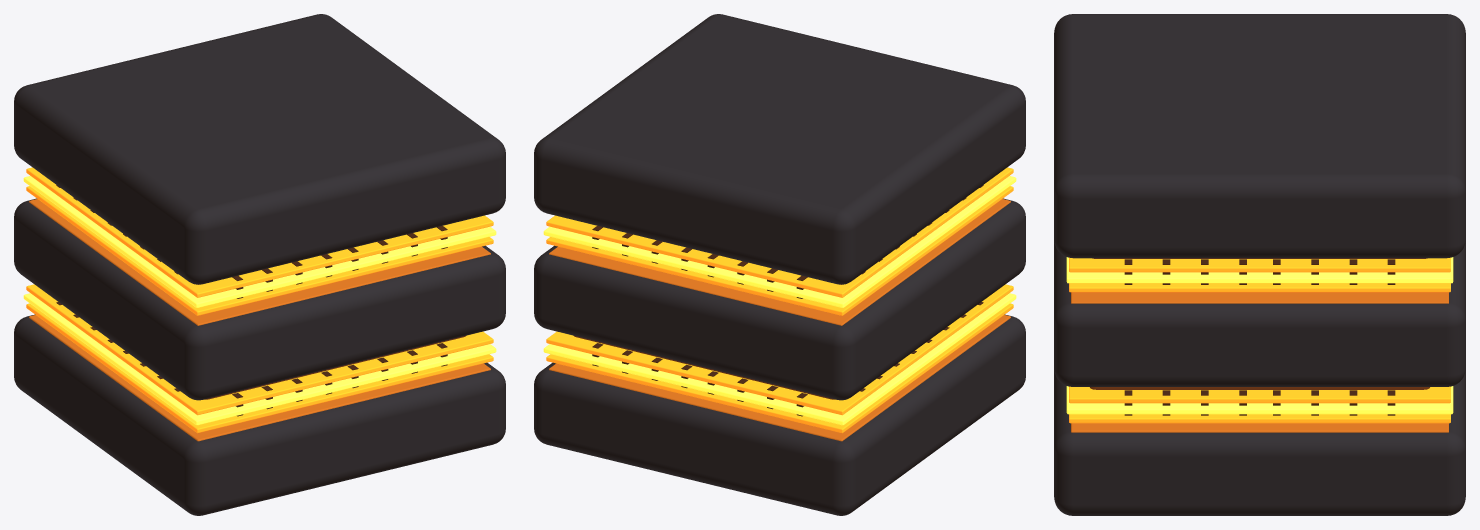
Rendered from inventory.glb.
The picture shows the model from 3 angles, left to right: view 1: azimuth 30°, elevation 25°; view 2: azimuth 150°, elevation 25°; view 3: azimuth 270°, elevation 25°; orthographic projection. The views are drawn at different scales.
Visible parts, largest first — view 1: stratum_top, stratum_middle, stratum_bottom, seam_lower, seam_upper; view 2: stratum_top, stratum_middle, stratum_bottom, seam_lower, seam_upper; view 3: stratum_top, stratum_middle, stratum_bottom, seam_lower, seam_upper.
Part boxes in pixels (x1=…): stratum_top: x1=14, y1=14, x2=505, y2=284; stratum_middle: x1=14, y1=198, x2=505, y2=400; stratum_bottom: x1=14, y1=314, x2=505, y2=515; seam_lower: x1=23, y1=284, x2=496, y2=433; seam_upper: x1=23, y1=167, x2=496, y2=315; stratum_top: x1=534, y1=14, x2=1025, y2=284; stratum_middle: x1=534, y1=198, x2=1025, y2=400; stratum_bottom: x1=534, y1=314, x2=1025, y2=515; seam_lower: x1=543, y1=284, x2=1016, y2=433; seam_upper: x1=543, y1=167, x2=1016, y2=315; stratum_top: x1=1054, y1=14, x2=1465, y2=258; stratum_middle: x1=1054, y1=240, x2=1465, y2=386; stratum_bottom: x1=1054, y1=369, x2=1465, y2=515; seam_lower: x1=1066, y1=386, x2=1453, y2=423; seam_upper: x1=1066, y1=257, x2=1453, y2=292.
Size of the model in its own units: 1.94 by 1.77 by 1.94.
